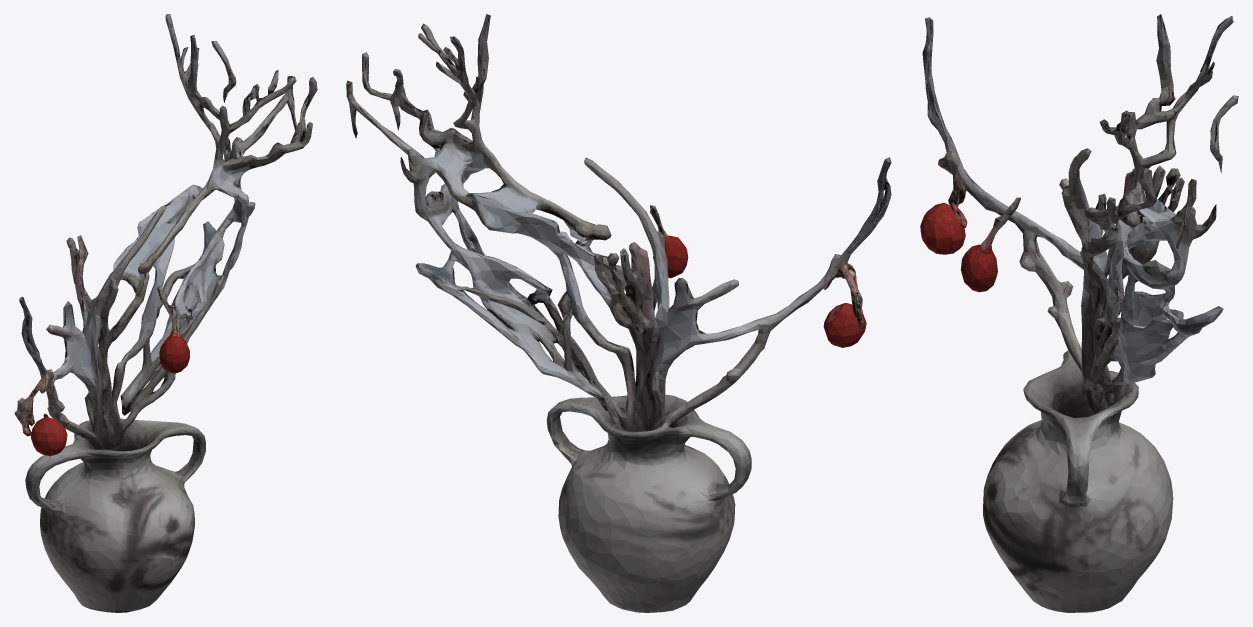
File: ast_79d7df1565e0.glb
The picture shows the model from 3 angles, left to right: view 1: azimuth 30°, elevation 25°; view 2: azimuth 150°, elevation 25°; view 3: azimuth 270°, elevation 25°; orthographic projection. The views are drawn at different scales.
Parts seen in each view (by area): view 1: geometry_0; view 2: geometry_0; view 3: geometry_0.
Boxes of the visible parts, bbox=[...] form: geometry_0: bbox=[14, 14, 317, 612]; geometry_0: bbox=[346, 14, 891, 612]; geometry_0: bbox=[920, 14, 1238, 612].
Bounding box in the file's own units: 0.7791 × 0.9996 × 0.4448.
1 material, 1 textured.
